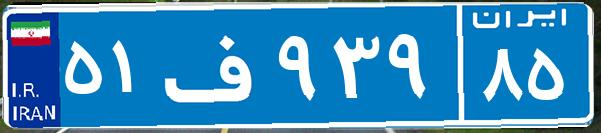1: (110, 28, 158, 105)
3: (330, 28, 385, 110)
5: (57, 26, 110, 107), (525, 38, 570, 115)
8: (475, 38, 525, 113)
9: (385, 28, 445, 110), (273, 28, 330, 110)
ف: (158, 15, 273, 115)
